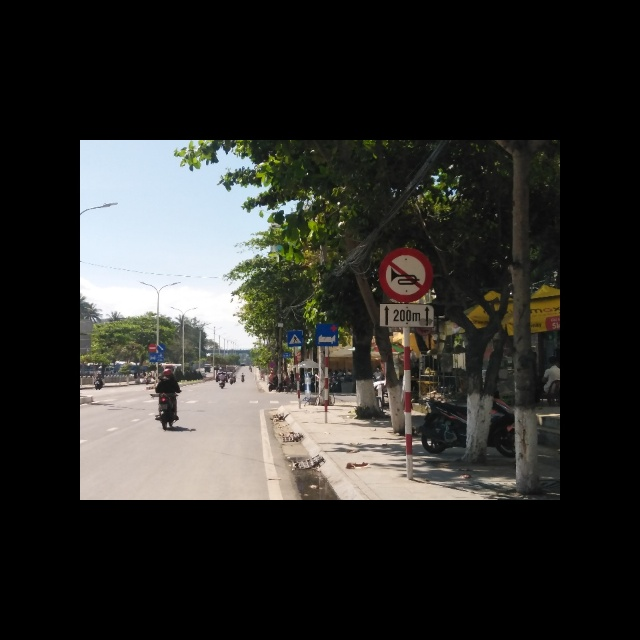Bệnh viện: (313, 325, 339, 347)
Cấm bấm còi: (380, 247, 432, 302)
Đường dành cho người đi bộ: (286, 330, 304, 347)
